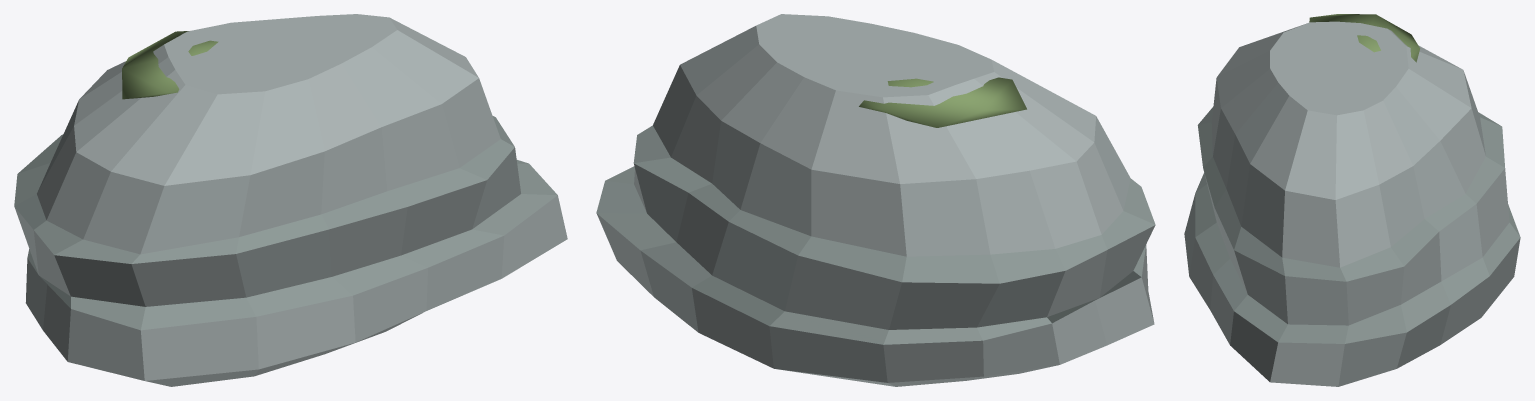
The model's file is rock.glb.
3 renders of one model, left to right at view 1: azimuth 30°, elevation 25°; view 2: azimuth 150°, elevation 25°; view 3: azimuth 270°, elevation 25°, orthographic. The views are drawn at different scales.
Visible parts, largest first — view 1: rock_Stone, rock_StoneDark, rock_Moss; view 2: rock_Stone, rock_StoneDark, rock_Moss; view 3: rock_Stone, rock_StoneDark, rock_Moss.
Part boxes in pixels (x1,y1,x2,y2): rock_Stone: (14, 14, 567, 386); rock_StoneDark: (14, 116, 557, 330); rock_Moss: (122, 31, 218, 99); rock_Stone: (596, 14, 1155, 386); rock_StoneDark: (596, 125, 1155, 344); rock_Moss: (859, 77, 1026, 127); rock_Stone: (1184, 21, 1520, 386); rock_StoneDark: (1195, 107, 1520, 343); rock_Moss: (1309, 14, 1420, 62).
Bounding box in the file's own units: 3.09 × 1.53 × 1.95.
